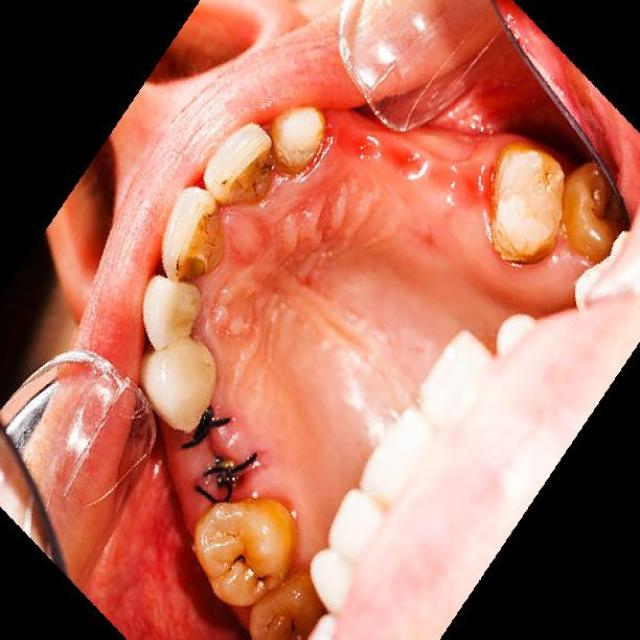caries: (168, 197, 228, 292), (221, 130, 285, 212), (588, 183, 622, 236), (262, 604, 304, 640), (226, 545, 254, 586), (254, 563, 277, 599)
